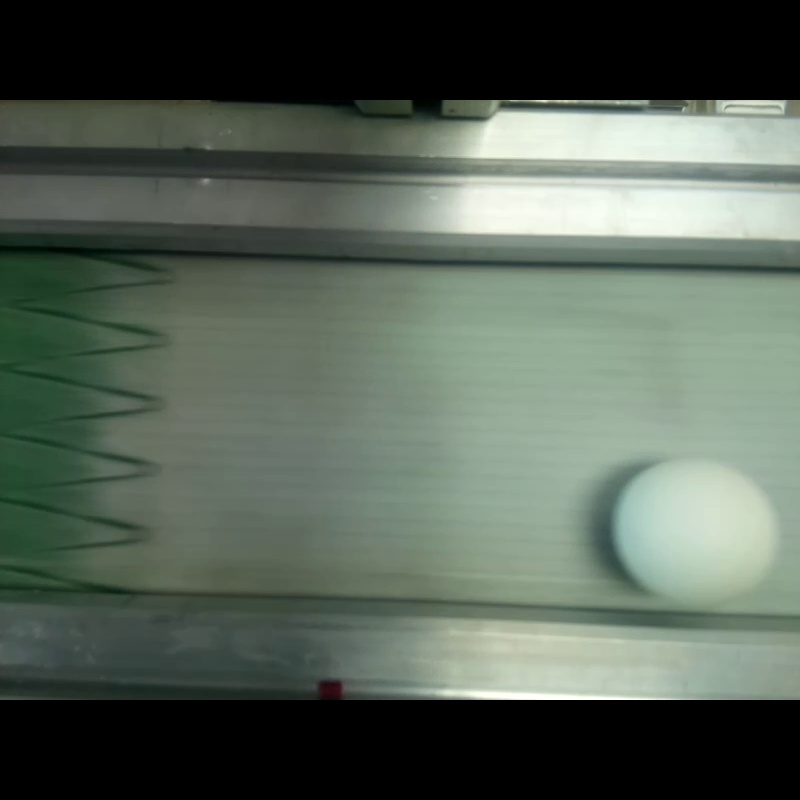marker: (612, 457, 777, 598)
